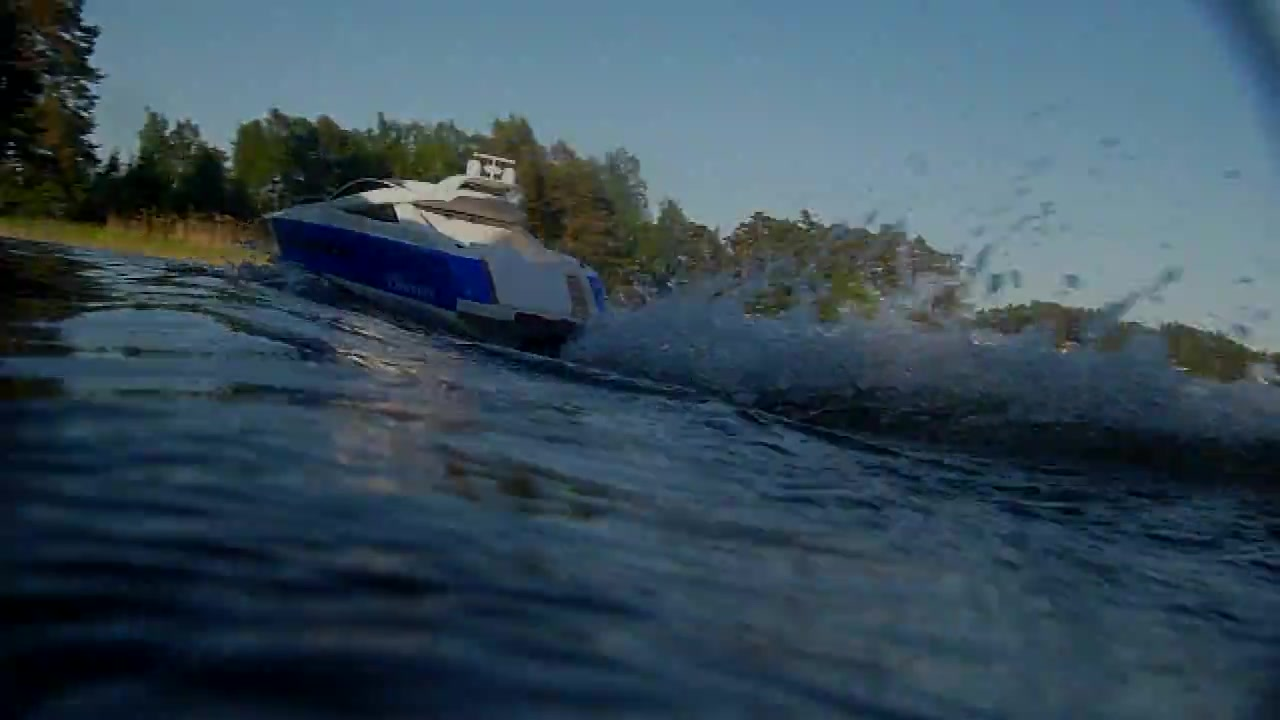boat: (265, 153, 612, 361)
